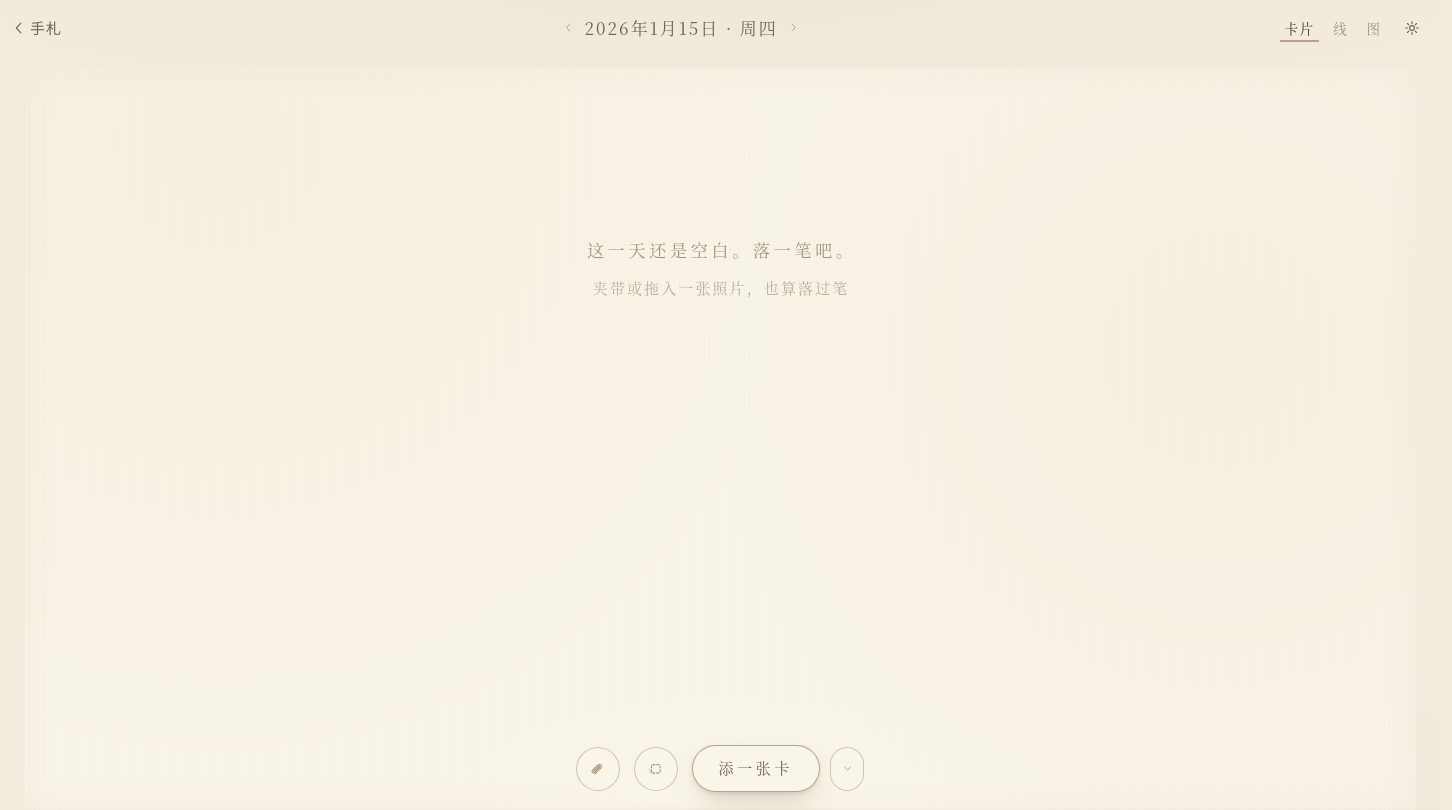
Test case: 添卡种类纸单（R9·D3） › hero 回归闸：「添一张卡」一 tap 直接落正文并进编辑，纸单不掀、addCard 一次不停
The width and height of the screenshot is (1452, 810).
Click the button "添一张卡": (756, 769) x1=692 y1=745 x2=820 y2=792
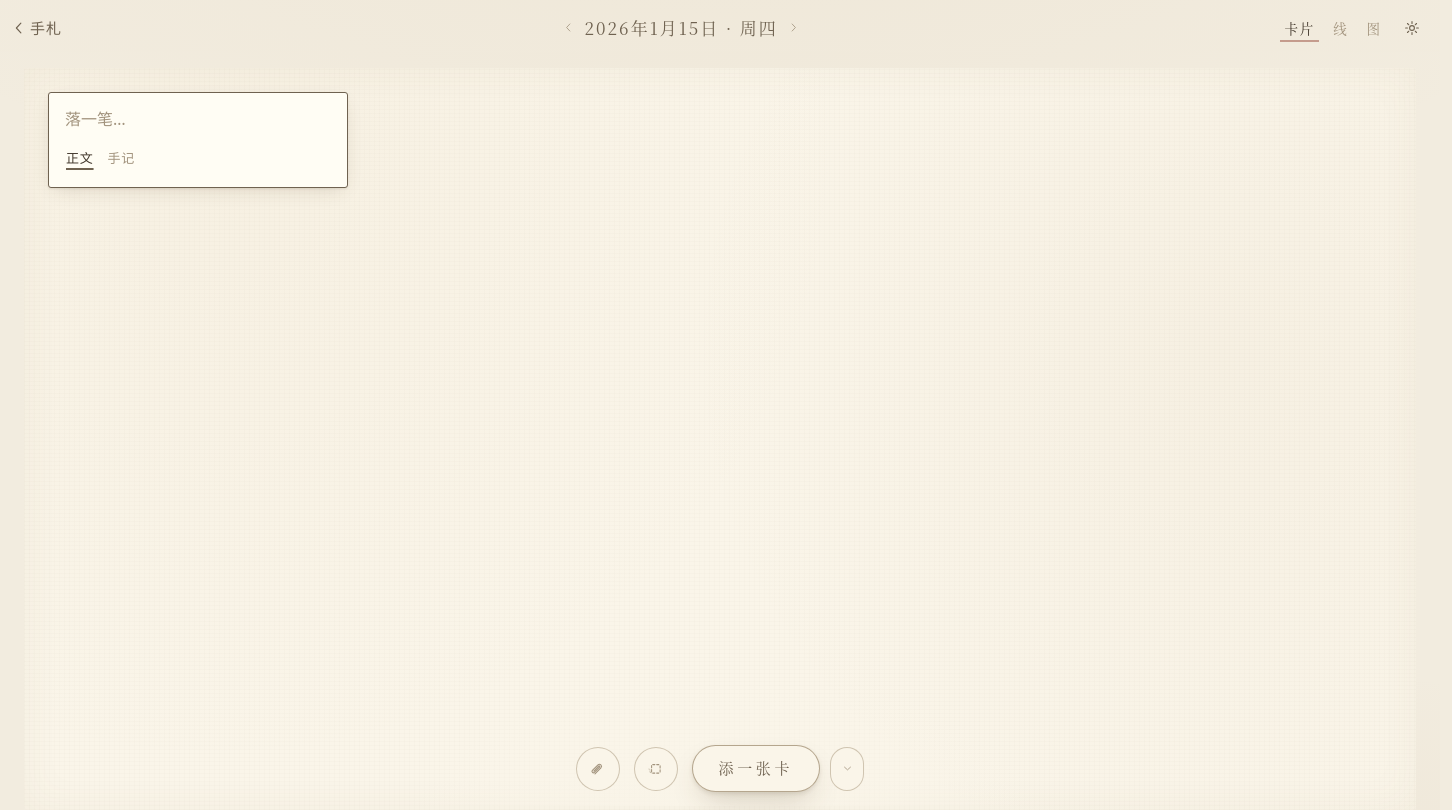
Now the text box is shown, box x1=63 y1=105 x2=333 y2=139
